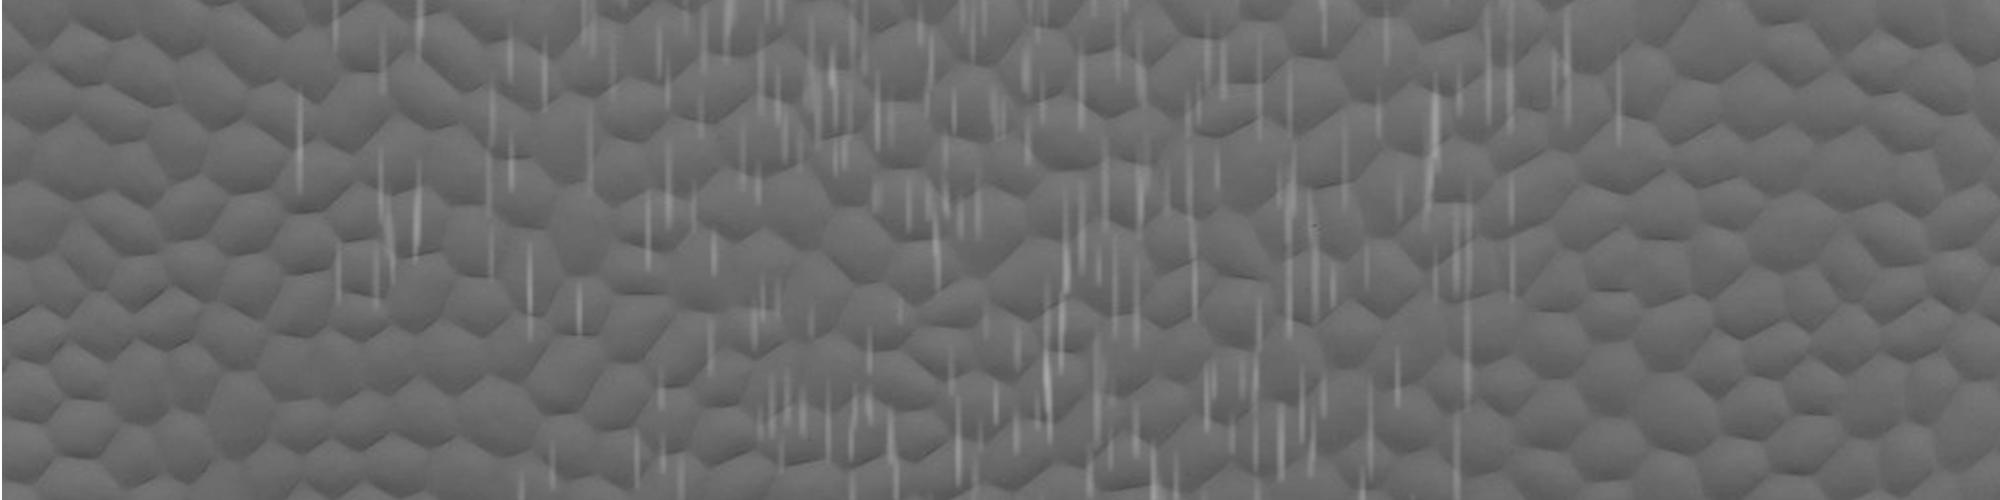Streaks: (1179, 13, 1239, 332), (1029, 184, 1089, 462), (901, 134, 985, 287), (1202, 295, 1270, 472), (1088, 375, 1185, 497), (972, 284, 1026, 496), (1448, 176, 1492, 408), (1129, 106, 1170, 357), (1448, 6, 1520, 142), (746, 361, 812, 492), (906, 3, 966, 138), (468, 57, 501, 293), (1277, 57, 1304, 349), (843, 318, 881, 500), (1093, 125, 1122, 362), (878, 287, 909, 500), (366, 139, 404, 312), (500, 3, 532, 207), (1301, 182, 1339, 335), (825, 46, 864, 195), (283, 77, 325, 210), (1105, 10, 1159, 112), (940, 291, 967, 491), (630, 423, 695, 500), (1295, 362, 1335, 483), (1541, 6, 1579, 135), (1352, 364, 1386, 500), (1415, 68, 1443, 233), (1014, 32, 1040, 187), (866, 59, 902, 163), (1065, 26, 1096, 147), (511, 228, 545, 339), (1605, 40, 1631, 173), (690, 3, 714, 151), (1499, 159, 1520, 312), (744, 278, 787, 353), (526, 26, 560, 120), (652, 13, 681, 122), (730, 115, 761, 213), (1369, 4, 1408, 83), (770, 71, 800, 173), (806, 17, 827, 162), (1242, 45, 1269, 154), (361, 17, 394, 105), (574, 103, 605, 196), (1443, 403, 1473, 494), (517, 440, 561, 499), (750, 23, 773, 136), (557, 272, 591, 349), (1335, 122, 1361, 223), (953, 3, 991, 68), (843, 4, 872, 85), (636, 181, 661, 279), (573, 6, 614, 64), (657, 133, 680, 235), (818, 371, 837, 489), (1272, 385, 1292, 491), (406, 6, 440, 68), (1385, 335, 1411, 413), (1031, 70, 1057, 142), (989, 82, 1011, 165), (1383, 162, 1406, 235), (406, 161, 421, 269), (700, 307, 722, 381), (1358, 224, 1380, 298), (719, 6, 739, 83), (607, 36, 628, 107), (708, 216, 724, 288), (1077, 3, 1143, 20), (1309, 5, 1333, 52), (759, 4, 795, 34), (649, 358, 668, 415), (864, 159, 881, 219), (1017, 3, 1050, 34), (801, 295, 821, 346), (325, 11, 344, 65), (1367, 83, 1384, 139), (332, 217, 342, 306), (689, 173, 702, 244), (1245, 474, 1269, 499)
